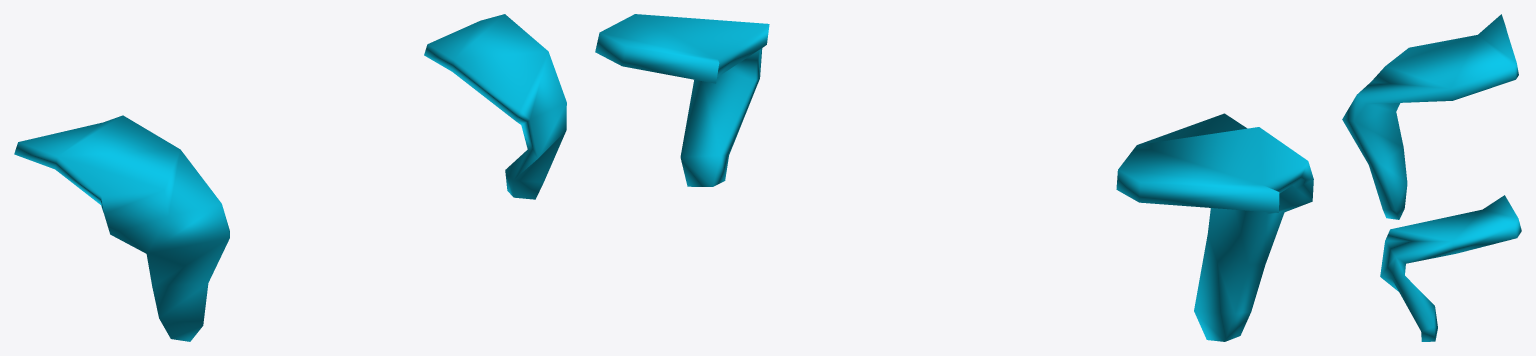
Rendered from IDKGunk.fbx.
3 renders of one model, left to right at view 1: azimuth 30°, elevation 25°; view 2: azimuth 150°, elevation 25°; view 3: azimuth 270°, elevation 25°, orthographic. The views are drawn at different scales.
Parts seen in each view (by area): view 1: Tears; view 2: Tears; view 3: Tears.
Boxes of the visible parts, bbox=[...] form: Tears: bbox=[14, 14, 566, 341]; Tears: bbox=[595, 14, 1313, 341]; Tears: bbox=[1342, 14, 1521, 341].
Bounding box in the file's own units: 32.66 × 11.16 × 11.36.
